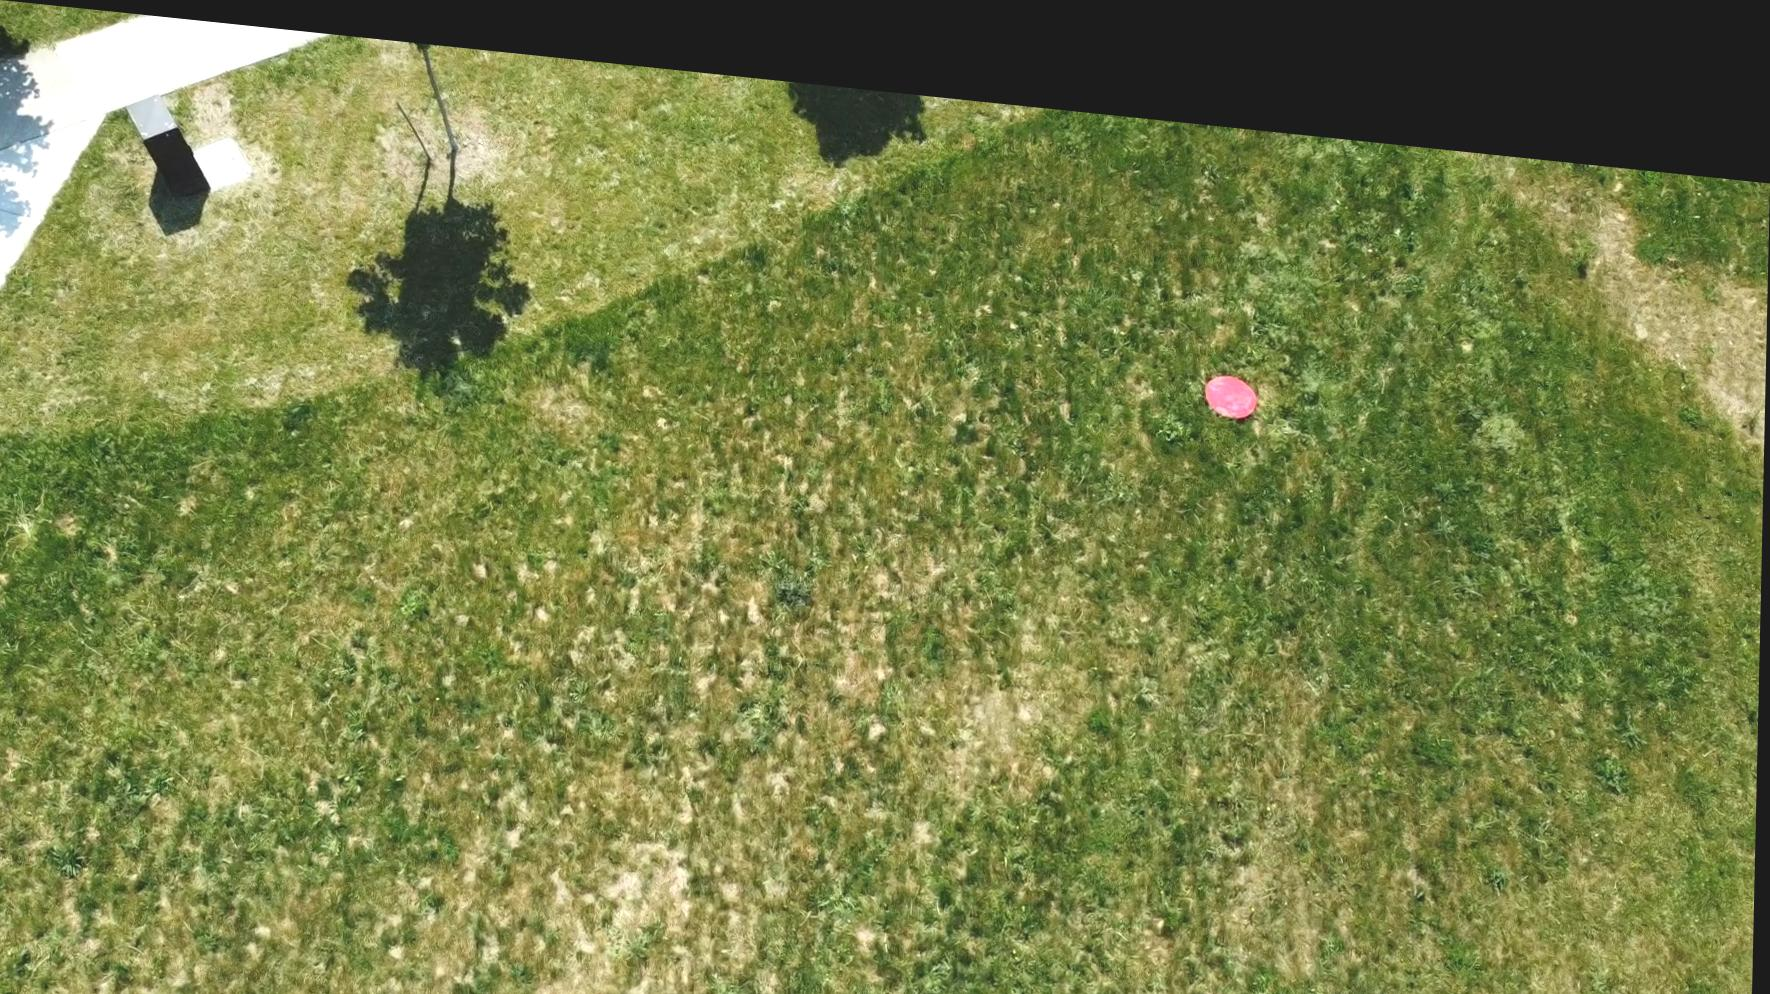Red: (1202, 344, 1262, 395)
